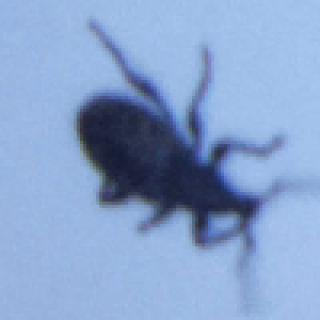bvw: (69, 13, 317, 272)
